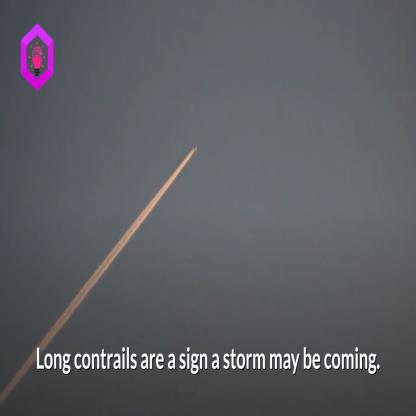plane: (193, 142, 199, 153)
